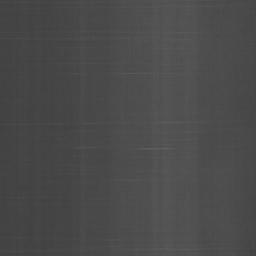Waist folding: (0, 120, 184, 183), (98, 2, 222, 39), (104, 238, 256, 253), (0, 235, 53, 254), (0, 36, 128, 41), (73, 71, 173, 77), (0, 196, 48, 200)
